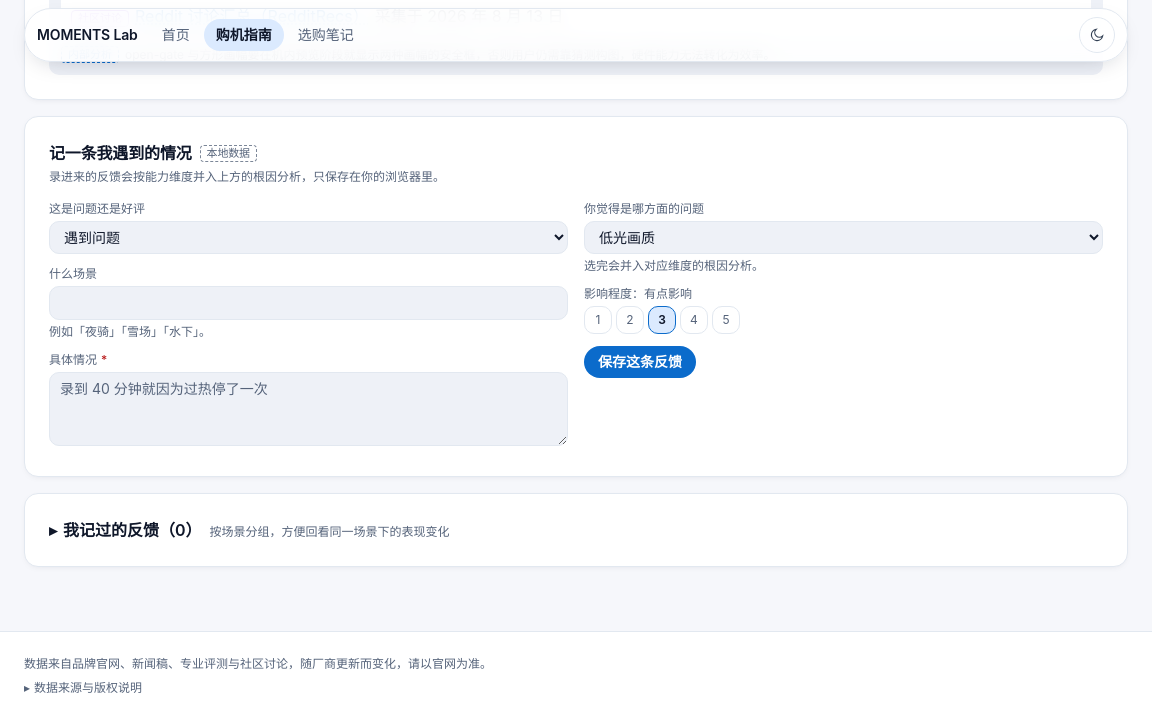
it: 第四步：实际表现 › 反馈内容为空时拒绝保存并说明原因
This screenshot has width=1152, height=720.
(page scrolled)
Check: the heading "记一条我遇到的情况 本地数据" is shown, box [49,143,257,163]
Click the button "保存这条反馈": coordinates (640, 362) [584,346,696,378]
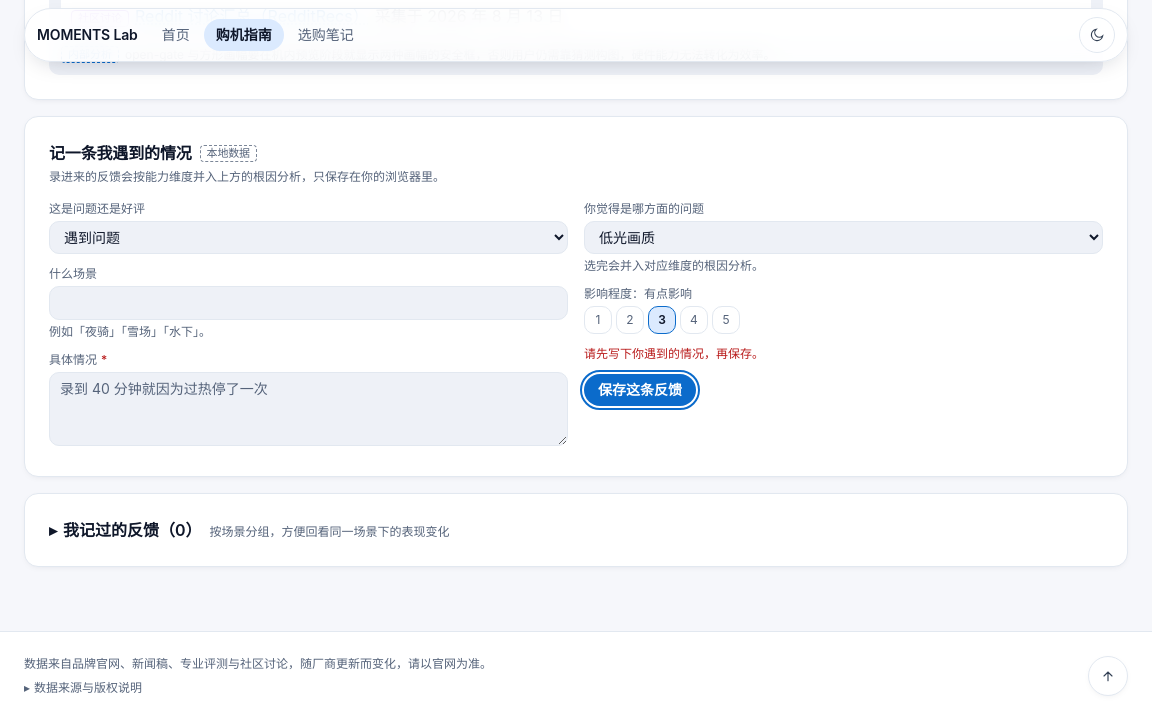
Check: the message shows "请先写下", box [584,346,764,361]
